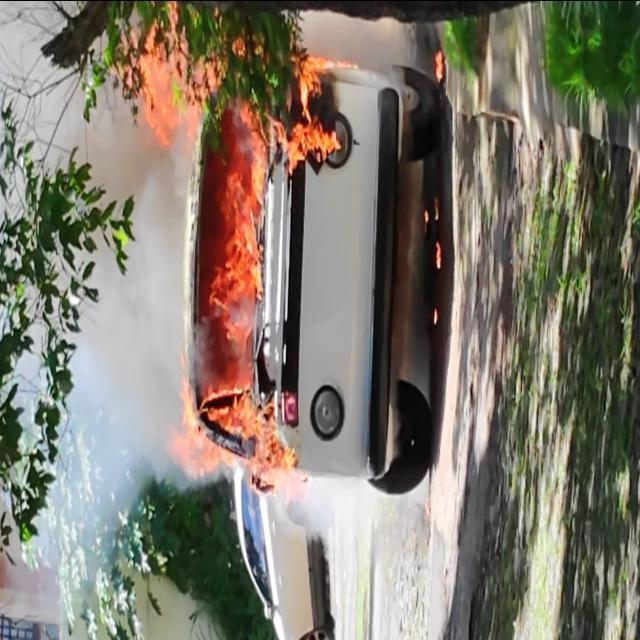Fire: (166, 101, 296, 479), (120, 2, 206, 146), (278, 48, 344, 167), (435, 48, 443, 82), (436, 238, 440, 268)
